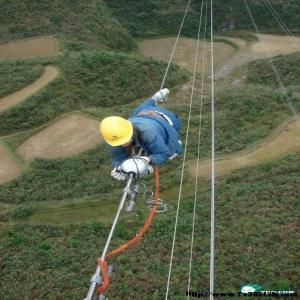yellow: (100, 114, 137, 150)
